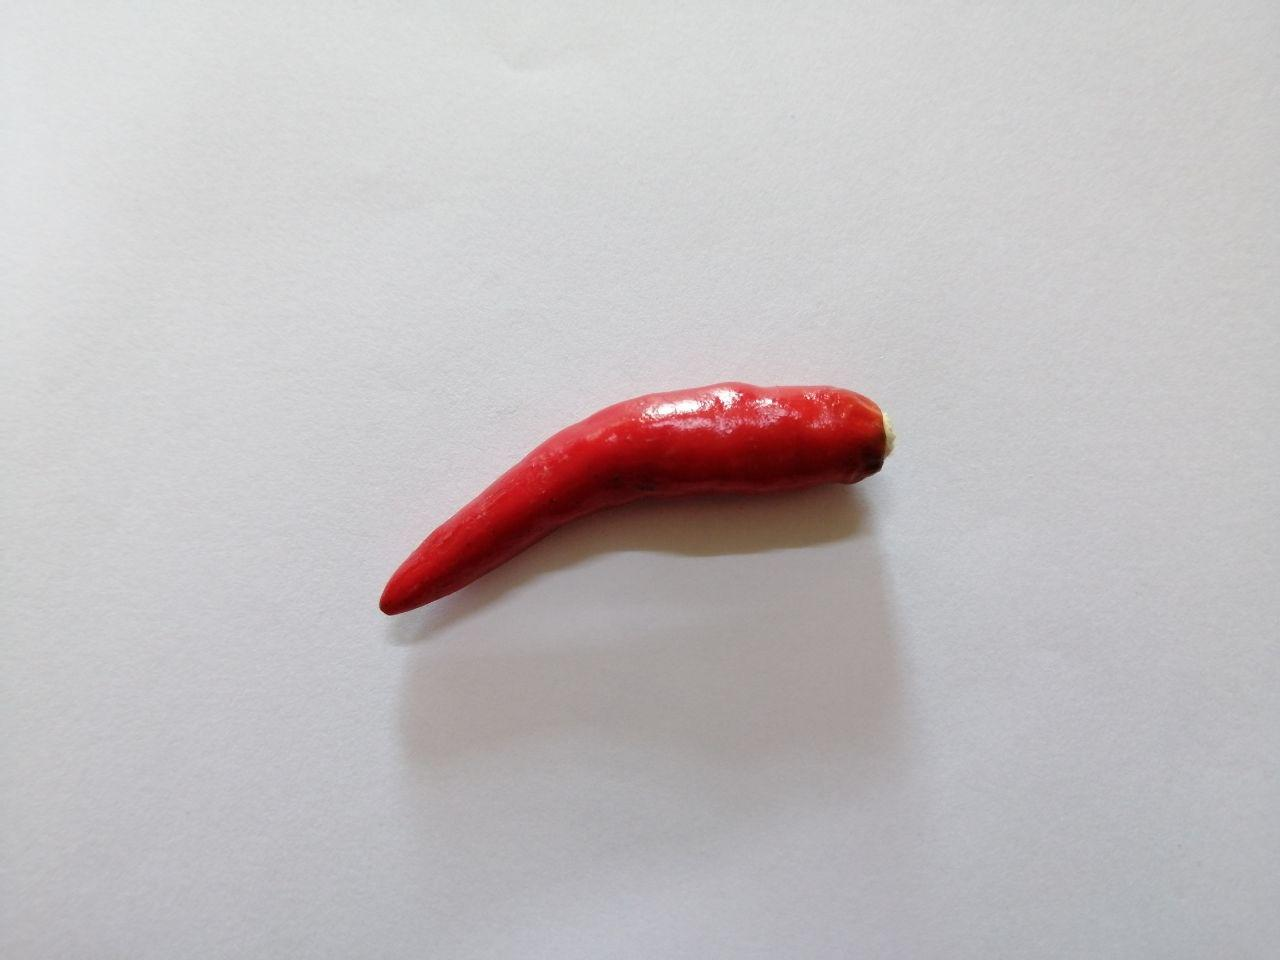lada merah: (360, 368, 927, 639)
